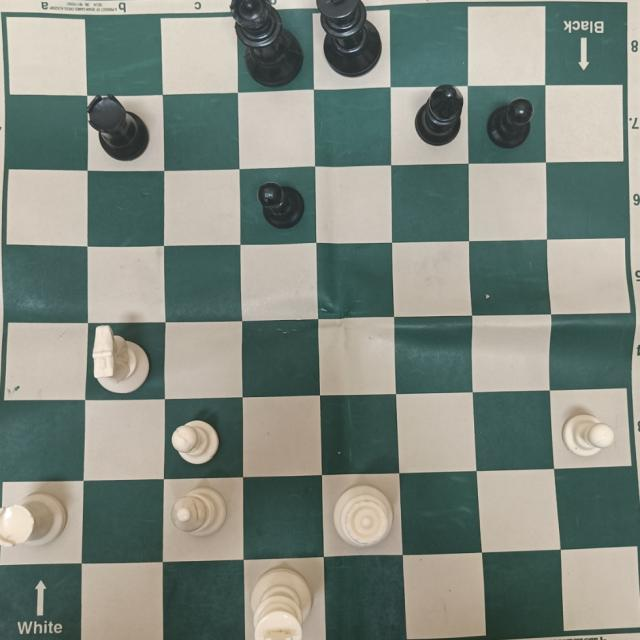black-bishop: (416, 86, 463, 145)
black-king: (317, 0, 383, 76)
black-pawn: (488, 98, 535, 147), (261, 180, 303, 228)
black-queen: (231, 0, 303, 83)
black-rook: (87, 95, 151, 161)
white-bishop: (170, 487, 226, 537)
white-king: (250, 568, 314, 640)
white-knight: (95, 325, 150, 398)
white-pawn: (563, 415, 618, 459), (174, 417, 219, 467)
white-queen: (333, 484, 394, 546)
white-rook: (0, 487, 65, 548)
